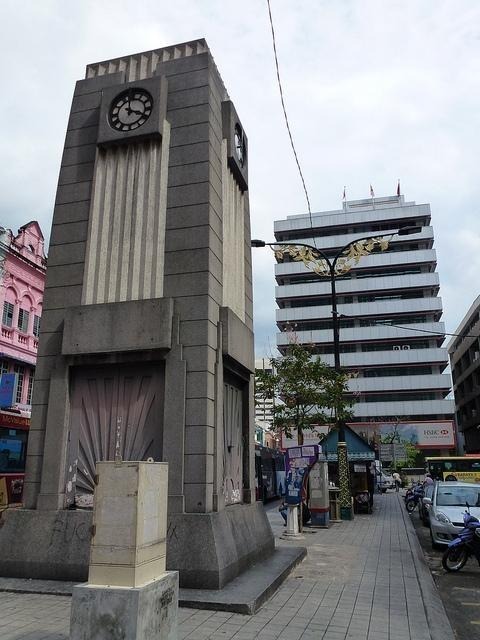bus: (425, 454, 480, 484)
car: (421, 482, 480, 554), (381, 472, 395, 494)
motorcycle: (439, 498, 480, 577), (406, 478, 426, 512)
